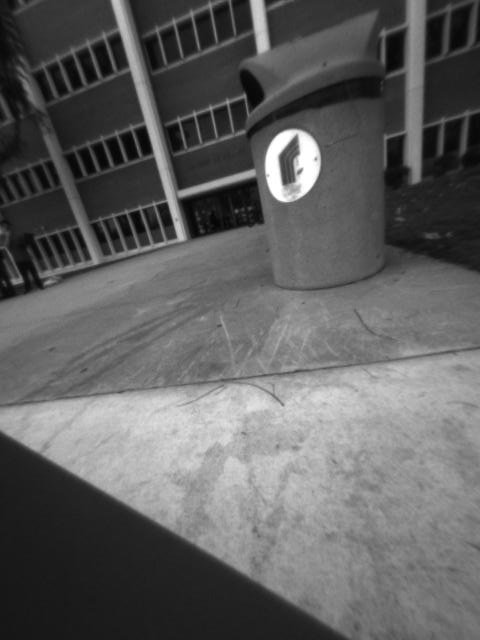trashcan: (240, 11, 392, 287)
